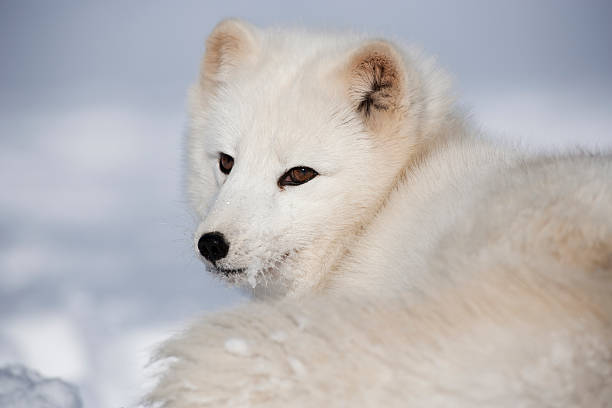arcticfox: (184, 77, 361, 293)
